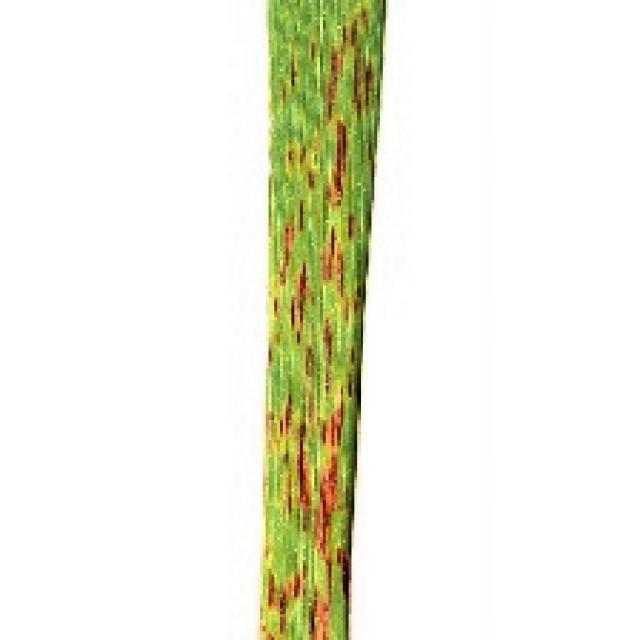Unhealthy: (309, 386, 344, 640), (295, 393, 315, 535), (288, 261, 317, 347), (324, 117, 348, 209), (320, 223, 347, 302), (266, 392, 297, 453), (325, 44, 347, 125), (352, 45, 374, 124), (279, 572, 305, 635), (341, 7, 371, 47), (320, 316, 333, 401), (278, 222, 294, 289), (284, 139, 312, 177), (336, 547, 351, 604), (284, 475, 293, 522), (304, 346, 316, 381), (348, 369, 361, 401), (261, 621, 280, 640), (268, 568, 276, 608), (353, 283, 362, 316), (347, 210, 356, 242), (278, 80, 287, 112), (298, 199, 306, 235), (291, 60, 299, 95), (307, 164, 316, 191), (268, 343, 276, 370), (347, 346, 357, 366), (273, 296, 281, 319), (283, 452, 290, 468)
